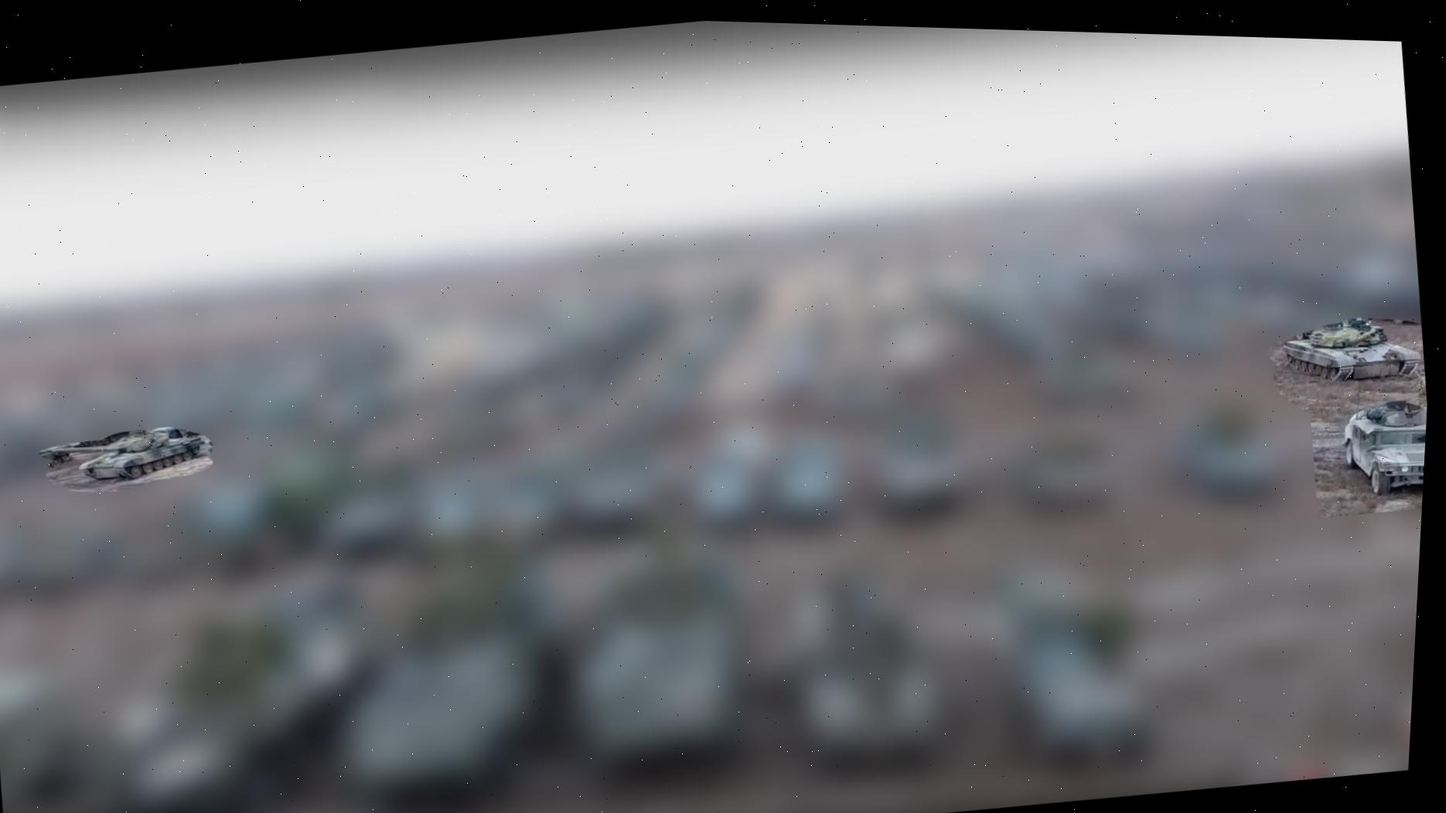armored_car: (1332, 396, 1428, 502)
tank: (29, 415, 219, 504), (1272, 308, 1427, 394)
